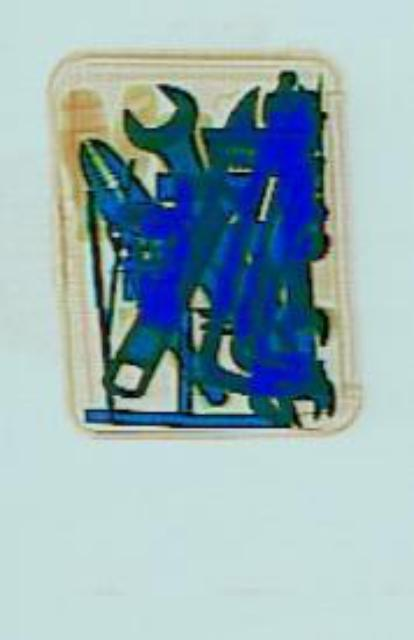Pliers: (52, 99, 265, 411)
Wrench: (86, 68, 291, 416), (114, 57, 298, 375), (203, 243, 338, 461)
